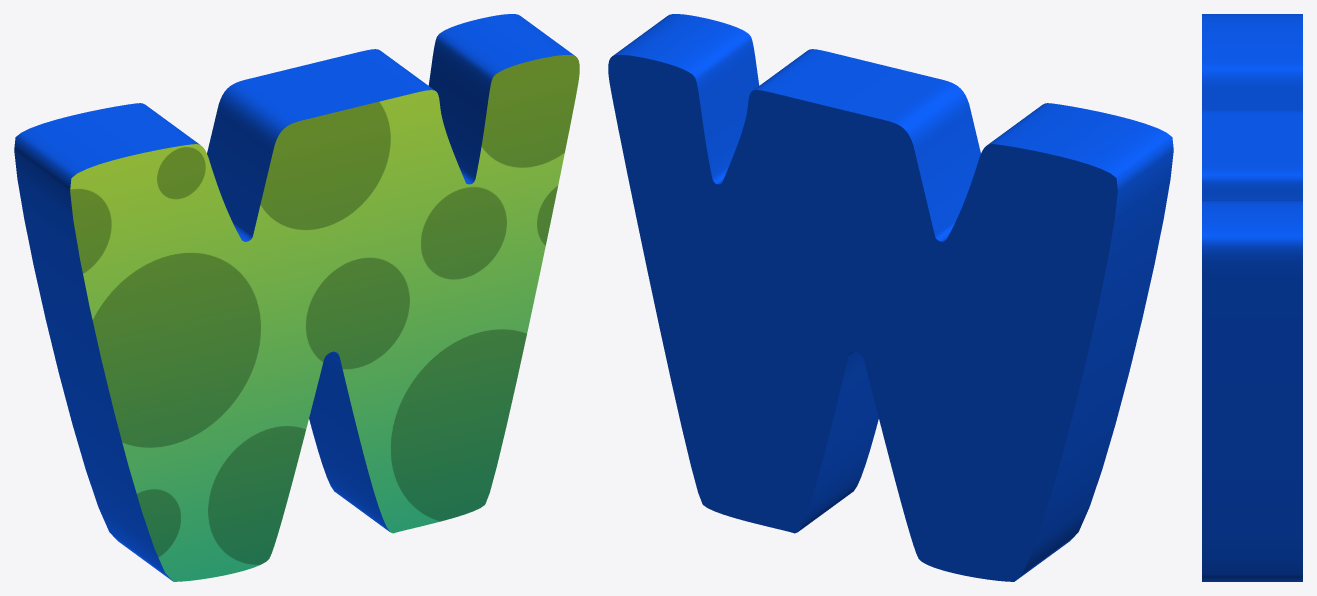
3 renders of one model, left to right at view 1: azimuth 30°, elevation 25°; view 2: azimuth 150°, elevation 25°; view 3: azimuth 270°, elevation 25°, orthographic. The views are drawn at different scales.
Parts seen in each view (by area): view 1: W; view 2: W; view 3: W.
Part boxes in pixels (<box>): W: <box>14,14,579,581</box>; W: <box>608,14,1173,581</box>; W: <box>1202,14,1302,581</box>.
Bounding box in the file's own units: 105 × 87.37 × 20.
2 materials, 1 textured.
